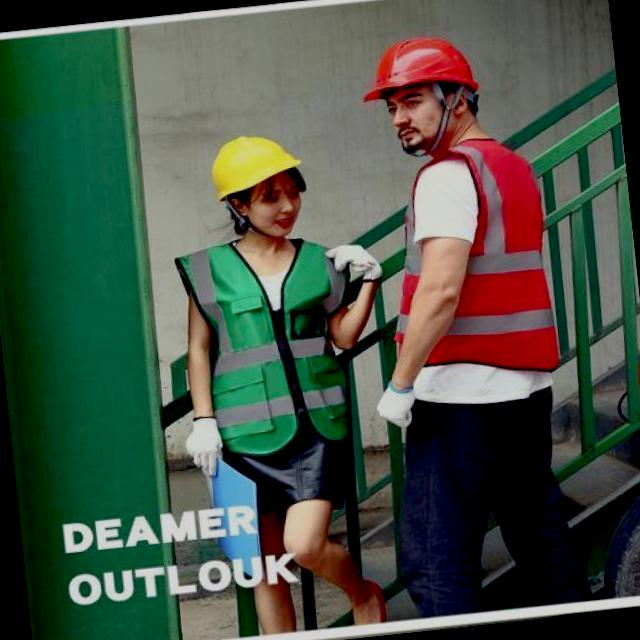vest: (182, 240, 350, 450), (415, 162, 558, 372)
